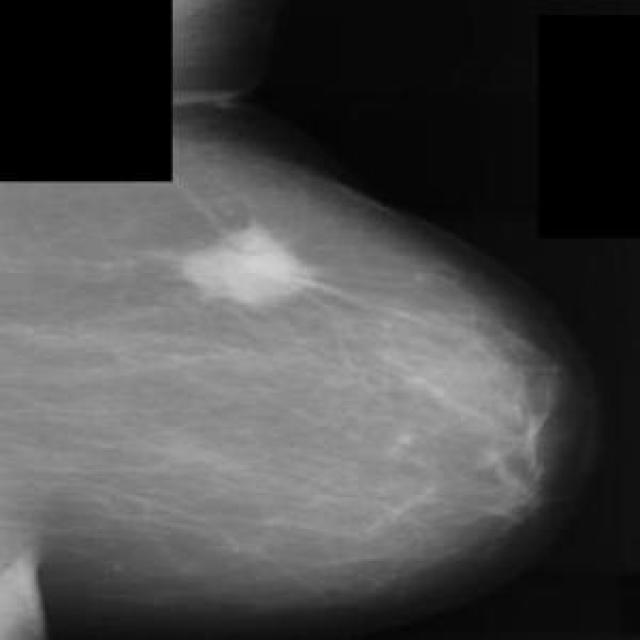tumor: (167, 208, 332, 326)
